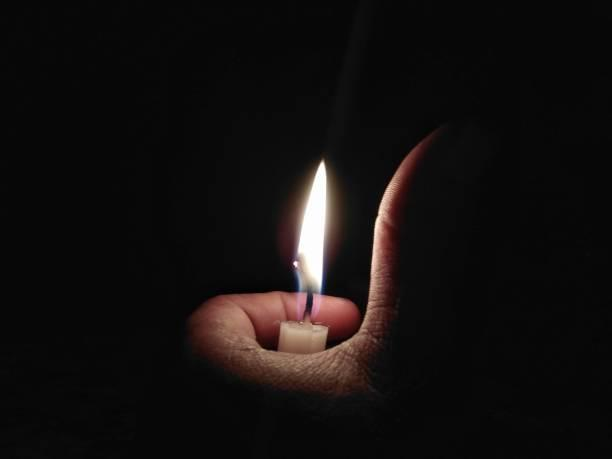Fire: (293, 157, 332, 319)
